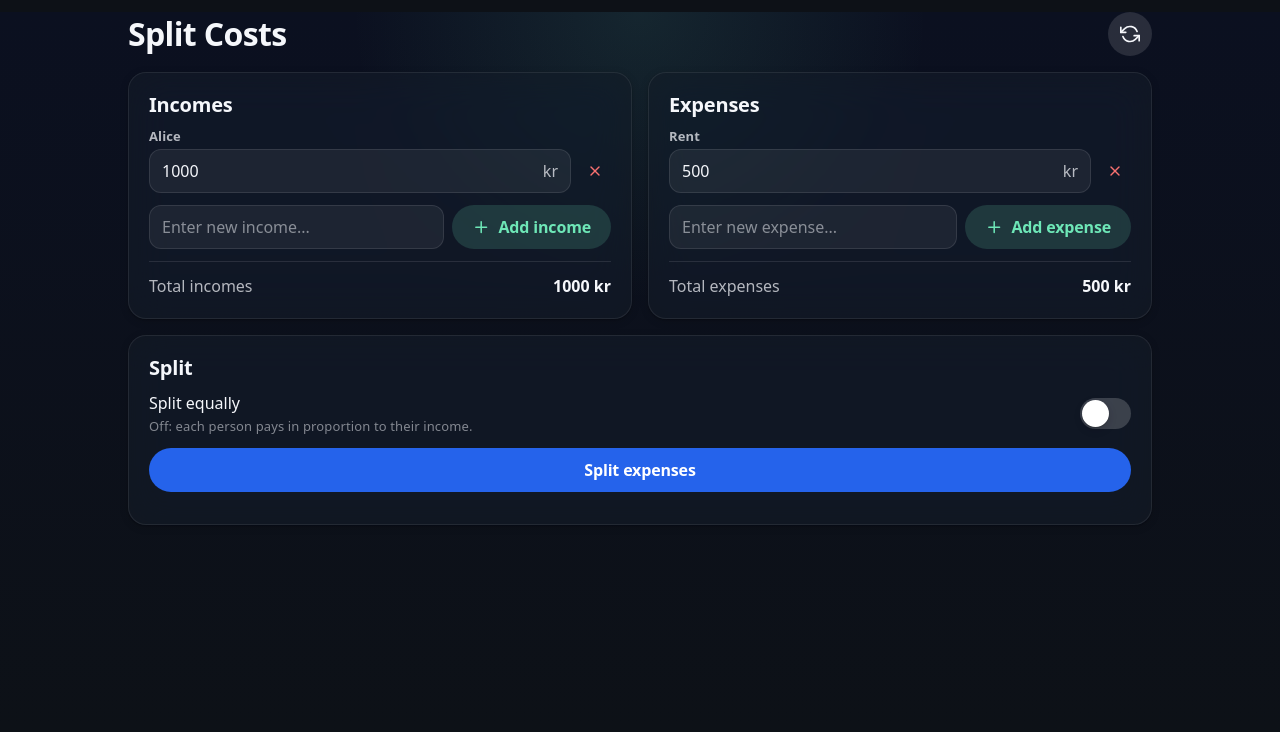
CostCalculator › splitting › does not mistake text the browser can't parse for a blank 0
This screenshot has width=1280, height=732.
Clear the number field named "Amount for Rent": (868, 171) top-left (682, 151), bottom-right (1055, 191)
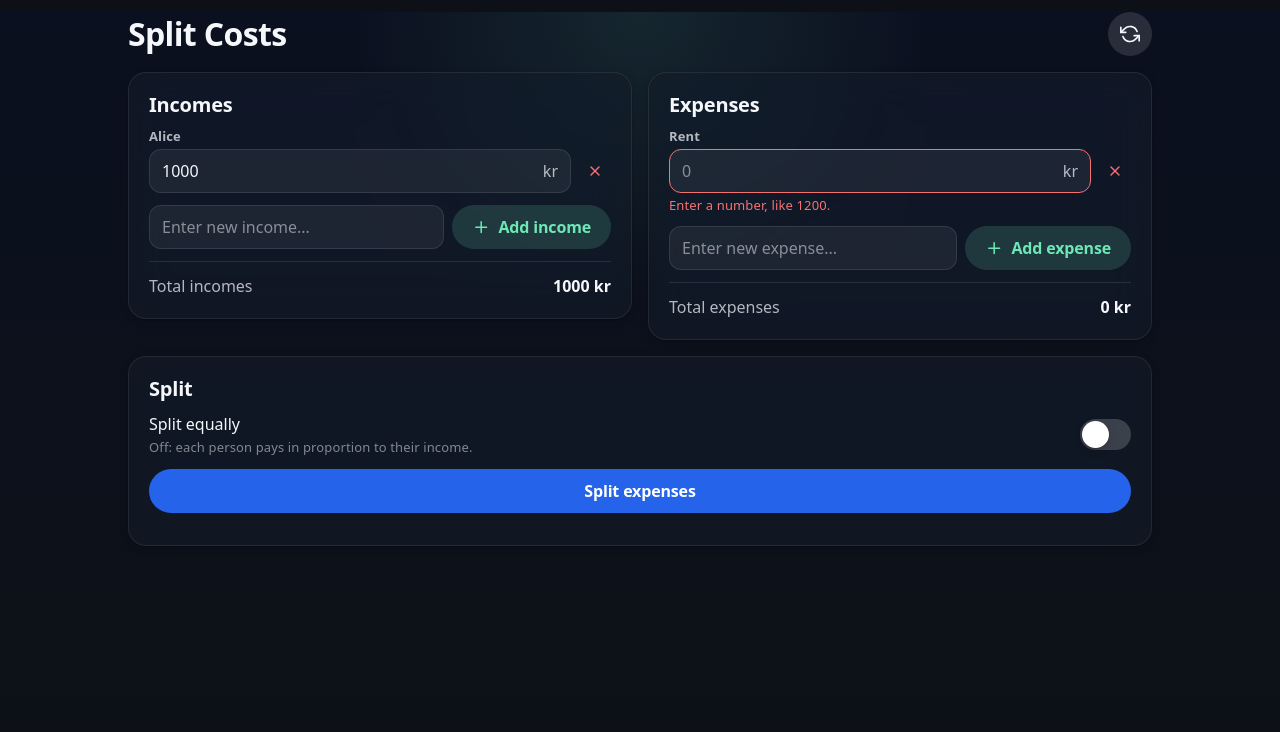
Click the button "Split expenses": (640, 491) top-left (149, 469), bottom-right (1131, 513)
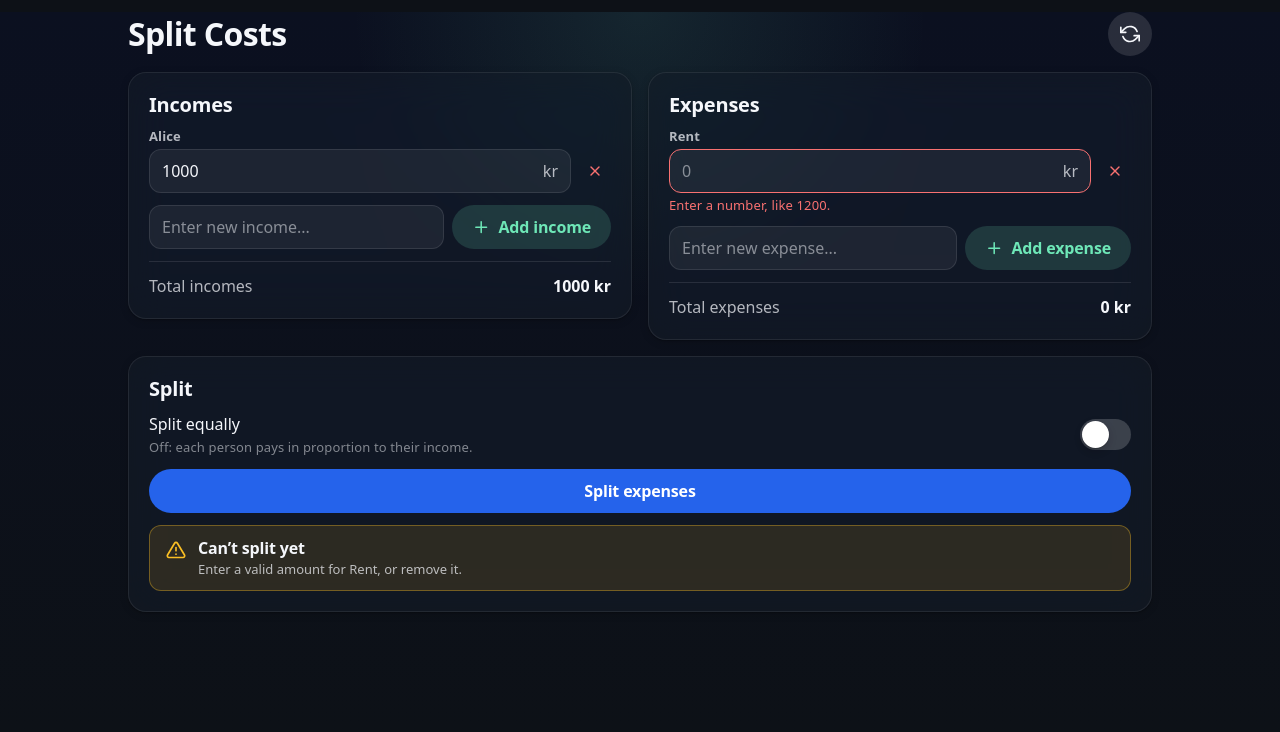
Result: the list item "Enter a valid amount for Rent, or remove it." is shown at top-left (198, 560), bottom-right (462, 578)
In the number field named "Amount for Rent": (868, 171) top-left (682, 151), bottom-right (1055, 191), type "800"
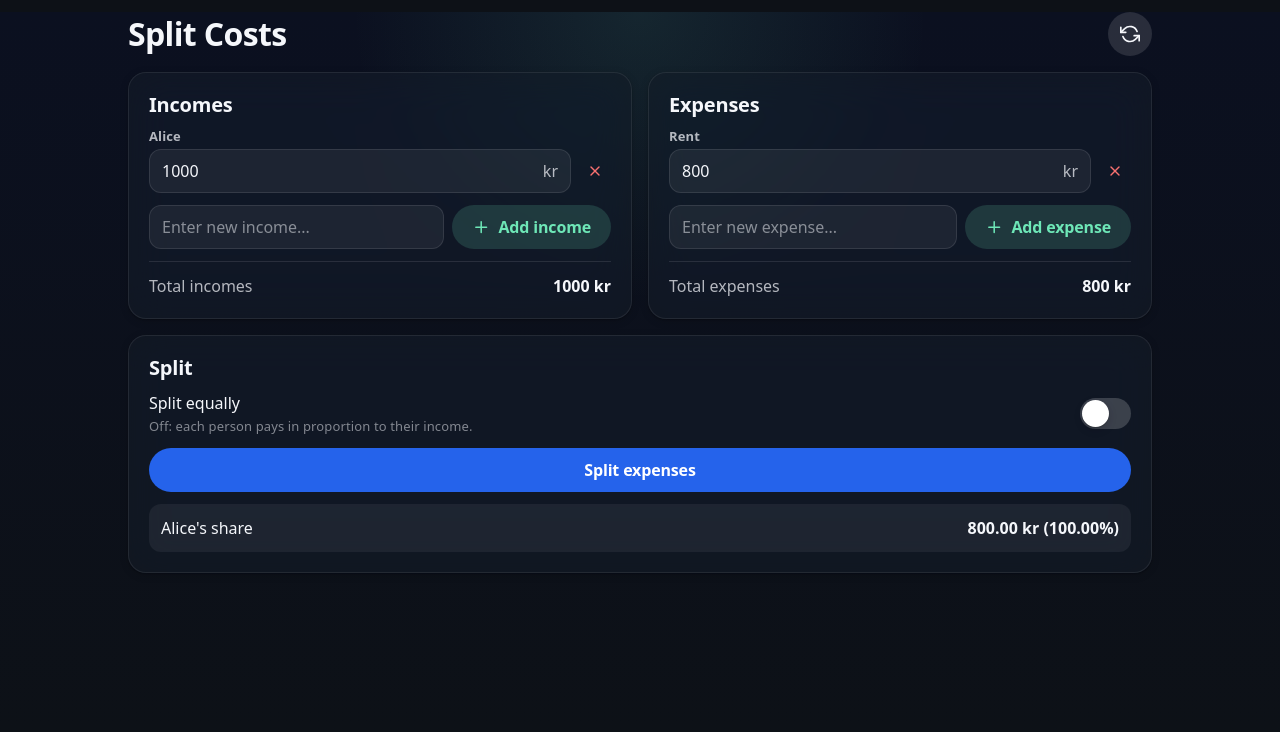
Result: the list item "Alice's share 800.00 kr (100.00%)" is shown at top-left (149, 504), bottom-right (1131, 552)
